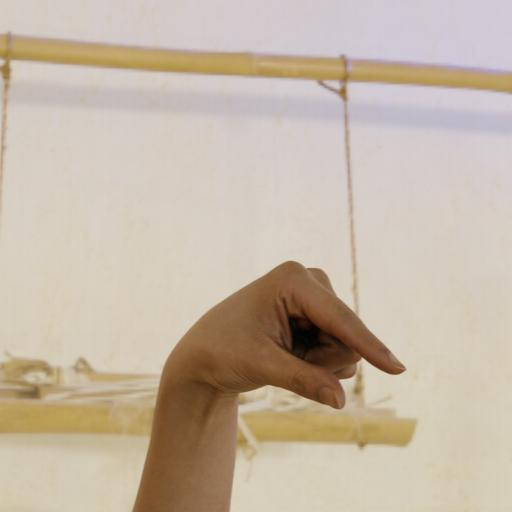Q: (153, 251, 413, 427)
